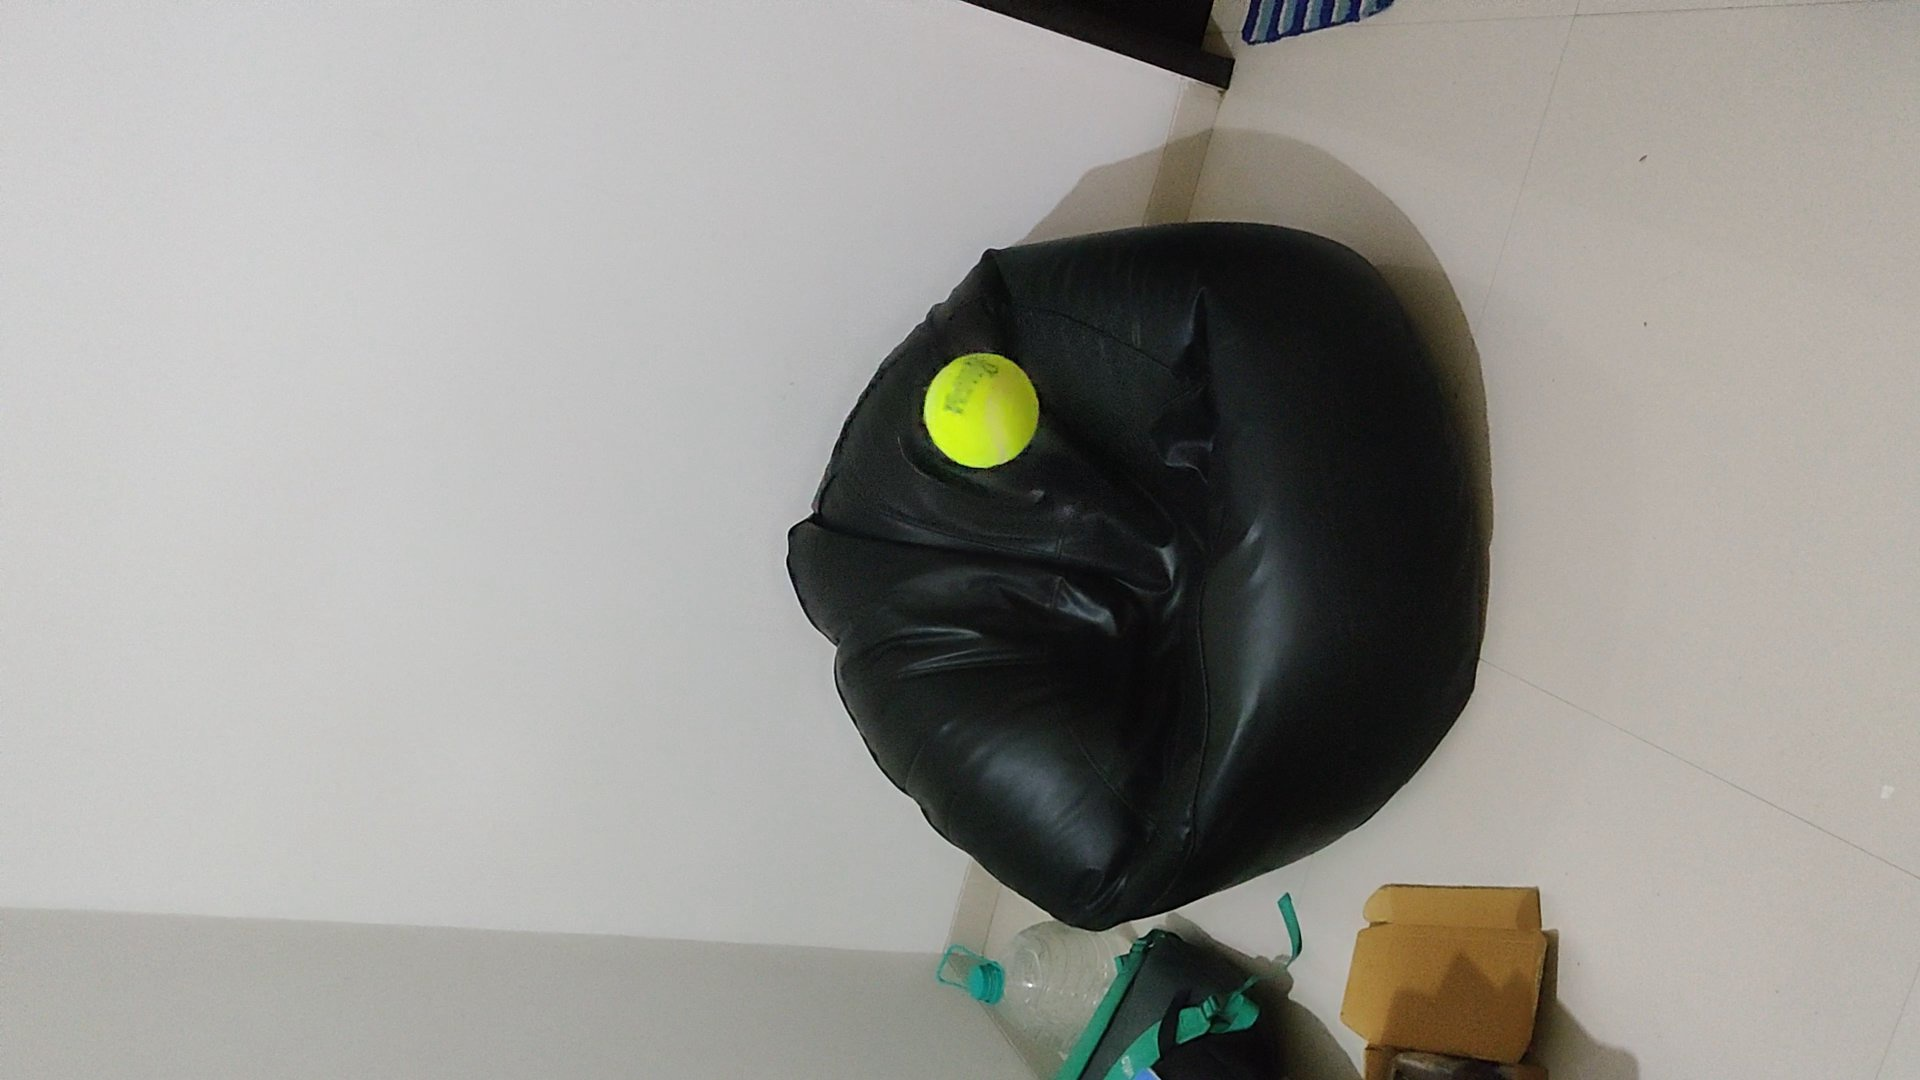Tennis-Ball: (924, 353, 1039, 468)
